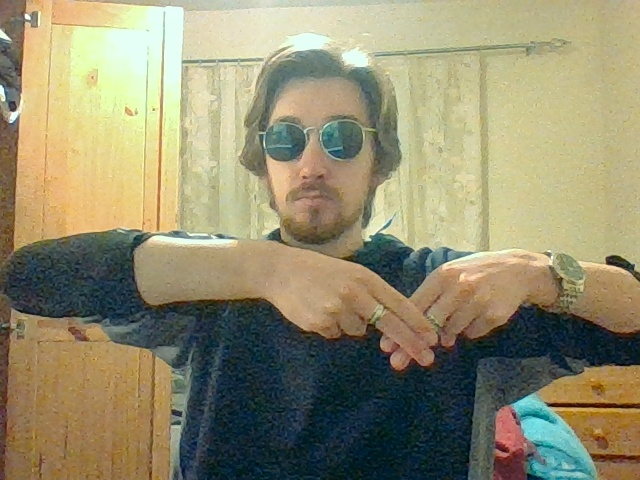father: (350, 270, 474, 370)
